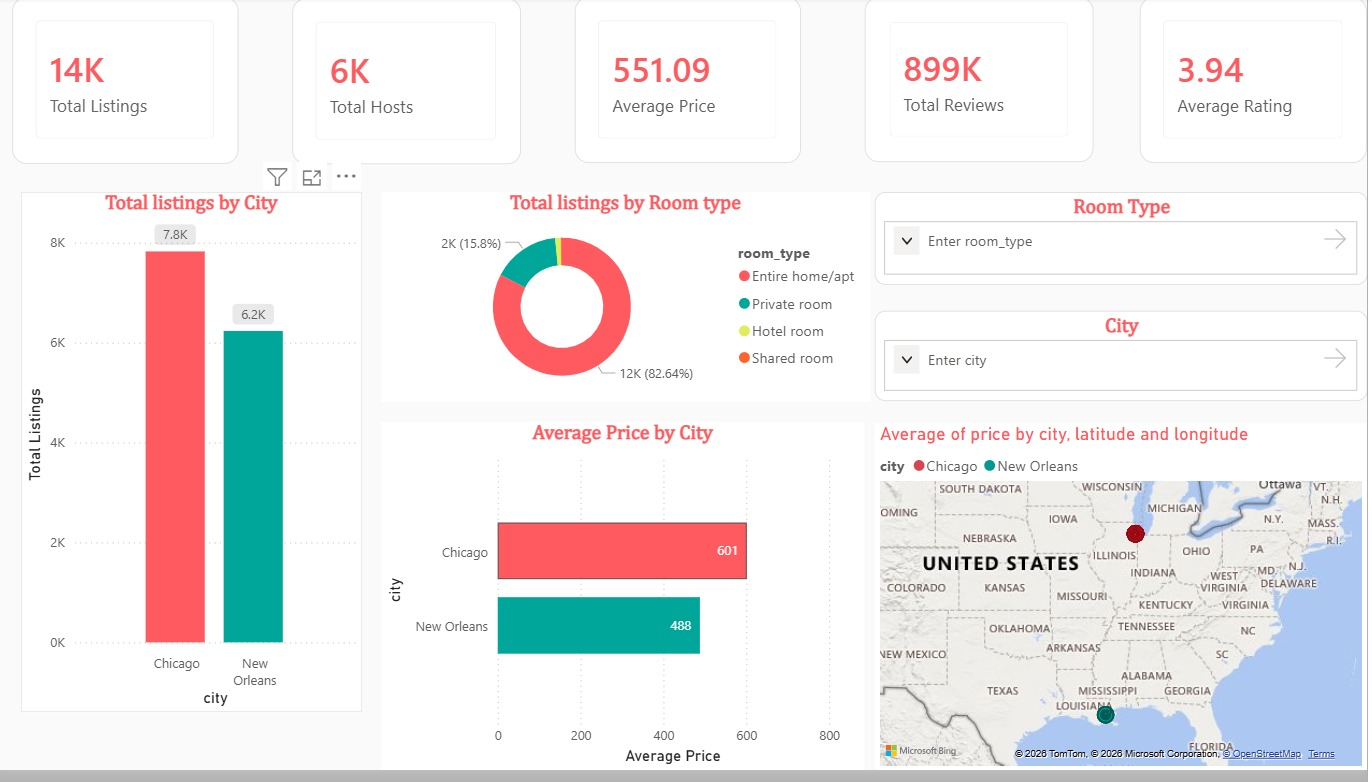

This screenshot's page, from the dashboard's own definition file:
{"tool":"powerbi","page":{"name":"Overview of Airbnb","canvas":[1280,720],"ordinal":0},"visuals":[{"type":"cardVisual","fields":{"Data":["Airbnb_data.Total Listings"]},"box":[20.2,0,210.4,155],"z":0},{"type":"cardVisual","fields":{"Data":["Airbnb_data.Total Hosts"]},"box":[279.8,1,212.4,154.4],"z":1000},{"type":"cardVisual","fields":{"Data":["Airbnb_data.Average Price"]},"box":[543,0,210.4,154.4],"z":2000},{"type":"cardVisual","fields":{"Data":["Airbnb_data.Total Reviews"]},"box":[812.4,0,212.4,153.4],"z":3000},{"type":"cardVisual","fields":{"Data":["Airbnb_data.Average Rating"]},"box":[1068.4,0,211.4,154.4],"z":4000},{"type":"clusteredColumnChart","title":"Total listings by City","fields":{"Category":["Airbnb_data.city"],"Y":["Airbnb_data.Total Listings"]},"box":[28,181.3,317.1,483.9],"z":5000},{"type":"donutChart","title":"Total listings by Room type","fields":{"Category":["Airbnb_data.room_type"],"Y":["Airbnb_data.Total Listings"]},"box":[362.9,181.5,454.9,195.3],"z":6000},{"type":"textSlicer","title":"City","fields":{"Values":["Airbnb_data.city"]},"box":[821.8,292.2,458,83.9],"z":7000},{"type":"textSlicer","title":"Room Type","fields":{"Values":["Airbnb_data.room_type"]},"box":[821.8,181.3,458,86],"z":8000},{"type":"clusteredBarChart","title":"Average Price by City","fields":{"Category":["Airbnb_data.city"],"Y":["Airbnb_data.Average Price"]},"box":[362.9,395.7,449.9,323.8],"z":9000},{"type":"map","fields":{"Y":["Airbnb_data.latitude"],"X":["Airbnb_data.longitude"],"Series":["Airbnb_data.city"],"Size":["Avg(Airbnb_data.price)"]},"box":[822,396,458,324],"z":10000}]}

Visuals, with their boxes in screenshot pixels (x1, y1, x2, y2), scaled from the page's 1280x720 canvas onto the 1372x782 screenshot:
cardVisual - Airbnb_data.Total Listings: <region>22, 0, 247, 168</region>
cardVisual - Airbnb_data.Total Hosts: <region>300, 1, 528, 169</region>
cardVisual - Airbnb_data.Average Price: <region>582, 0, 808, 168</region>
cardVisual - Airbnb_data.Total Reviews: <region>871, 0, 1098, 167</region>
cardVisual - Airbnb_data.Average Rating: <region>1145, 0, 1371, 168</region>
"Total listings by City" clusteredColumnChart: <region>30, 197, 370, 722</region>
"Total listings by Room type" donutChart: <region>389, 197, 877, 409</region>
"City" textSlicer: <region>881, 317, 1371, 408</region>
"Room Type" textSlicer: <region>881, 197, 1371, 290</region>
"Average Price by City" clusteredBarChart: <region>389, 430, 871, 781</region>
map - Airbnb_data.latitude x Airbnb_data.longitude: <region>881, 430, 1371, 781</region>
